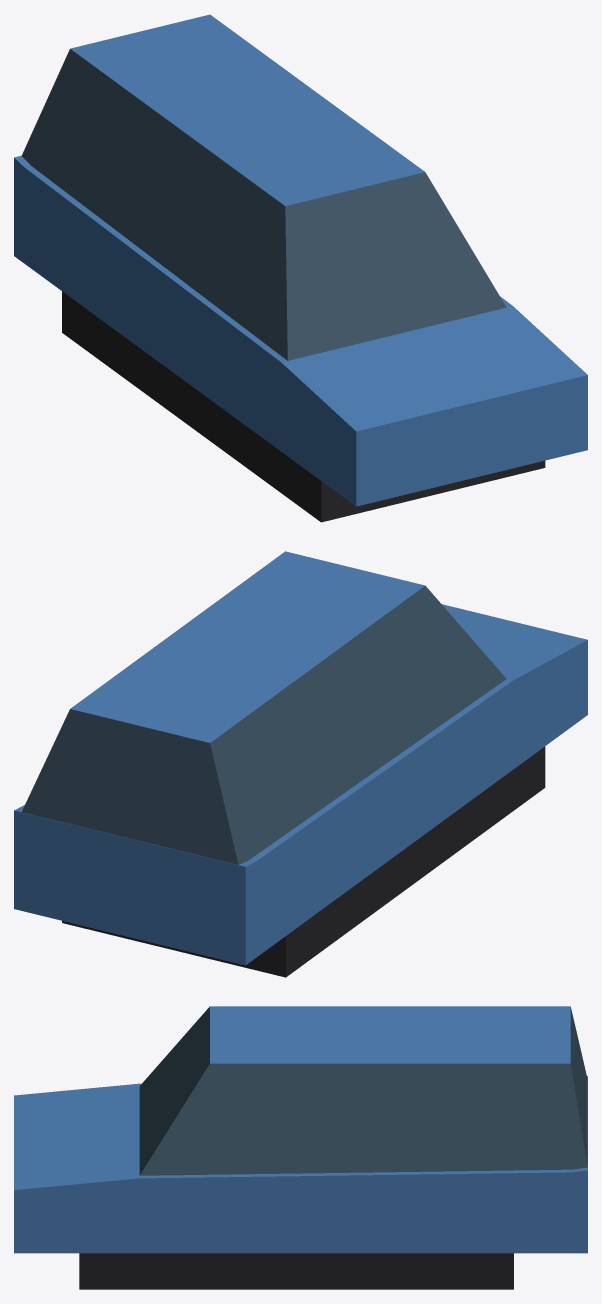
File: 7_far.fbx
3 views of the same model, one above another, from view 1: azimuth 30°, elevation 25°; view 2: azimuth 150°, elevation 25°; view 3: azimuth 270°, elevation 25° (orthographic). The views are drawn at different scales.
Parts seen in each view (by area): view 1: 10_7_far; view 2: 10_7_far; view 3: 10_7_far.
Part boxes in pixels (bbox=[...]): 10_7_far: bbox=[14, 14, 587, 522]; 10_7_far: bbox=[14, 551, 587, 977]; 10_7_far: bbox=[14, 1006, 587, 1289].
Bounding box in the file's own units: 1.82 × 1.87 × 4.66.
